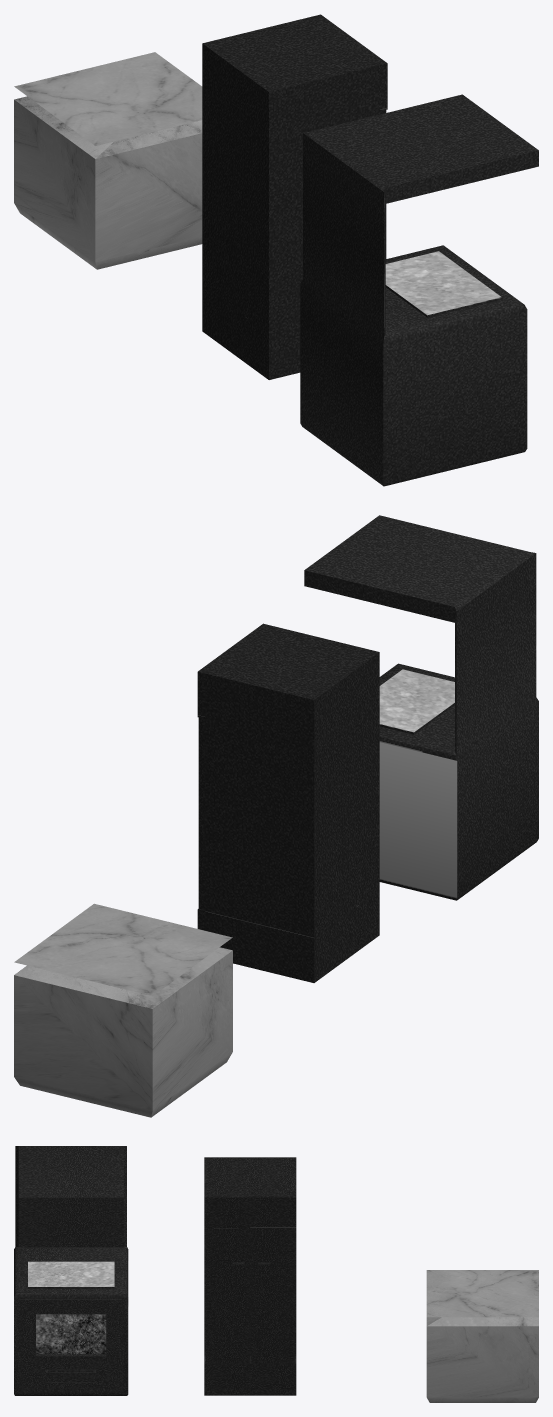
The model's file is kitchen.fbx.
3 renders of one model, top to bottom at view 1: azimuth 30°, elevation 25°; view 2: azimuth 150°, elevation 25°; view 3: azimuth 270°, elevation 25°, orthographic. The views are drawn at different scales.
Visible parts, largest first — view 1: oven/flattop, freezer, Cube; view 2: freezer, oven/flattop, Cube, freezerdoor; view 3: oven/flattop, Cube, freezerdoor, freezer.
Boxes of the visible parts, left/top/right/bottom form: oven/flattop: left=300, top=94, right=538, bottom=486; freezer: left=202, top=14, right=387, bottom=379; Cube: left=14, top=52, right=202, bottom=269; freezer: left=197, top=623, right=379, bottom=982; oven/flattop: left=304, top=515, right=538, bottom=900; Cube: left=14, top=903, right=232, bottom=1117; freezerdoor: left=198, top=717, right=205, bottom=909; oven/flattop: left=14, top=1146, right=128, bottom=1395; Cube: left=426, top=1270, right=538, bottom=1402; freezerdoor: left=206, top=1229, right=294, bottom=1363; freezer: left=204, top=1157, right=296, bottom=1395.
Bounding box in the file's own units: 130 × 239 × 539.
Materials: 1 (1 with a texture image).
